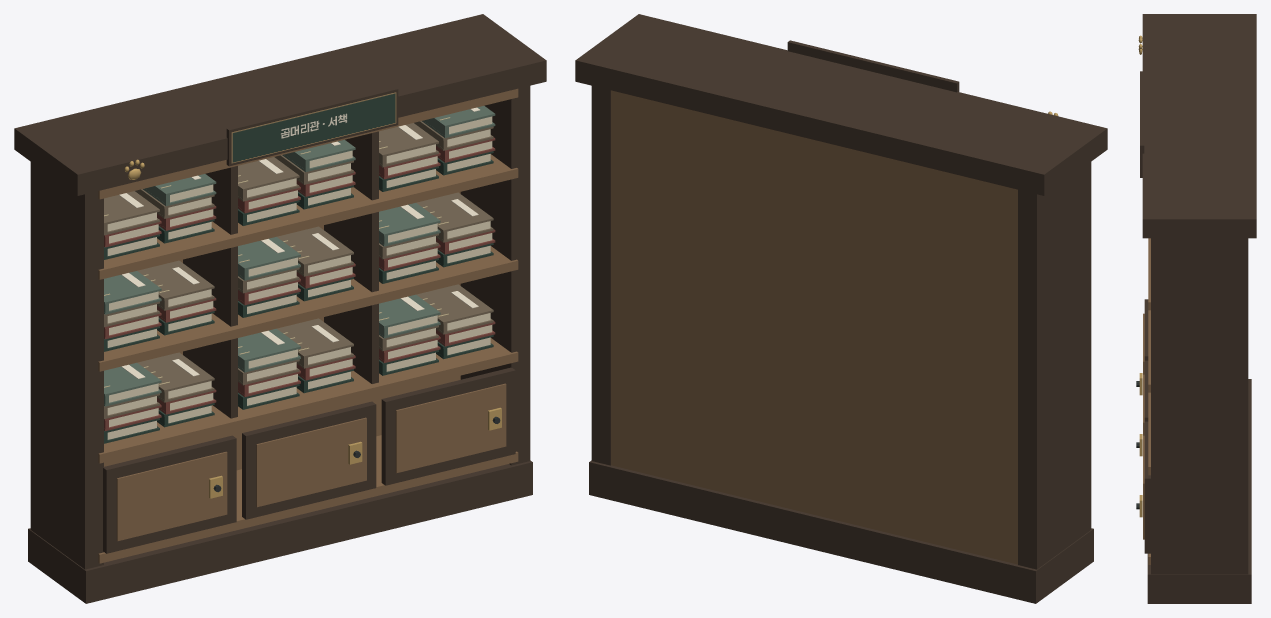
Rendered from 01_Seodang_Bookcase.fbx.
The picture shows the model from 3 angles, left to right: view 1: azimuth 30°, elevation 25°; view 2: azimuth 150°, elevation 25°; view 3: azimuth 270°, elevation 25°; orthographic projection. The views are drawn at different scales.
Visible parts, largest first — view 1: 01_Seodang_Bookcase__Structure, 01_Seodang_Bookcase; view 2: 01_Seodang_Bookcase__Structure; view 3: 01_Seodang_Bookcase__Structure, 01_Seodang_Bookcase.
Boxes of the visible parts, left/top/right/bottom form: 01_Seodang_Bookcase__Structure: left=14, top=14, right=546, bottom=603; 01_Seodang_Bookcase: left=103, top=367, right=515, bottom=553; 01_Seodang_Bookcase__Structure: left=575, top=14, right=1107, bottom=603; 01_Seodang_Bookcase__Structure: left=1138, top=14, right=1256, bottom=603; 01_Seodang_Bookcase: left=1136, top=299, right=1150, bottom=553.
Size of the model in its own units: 299 by 270 by 73.9.
Materials: 2 (2 with a texture image).
